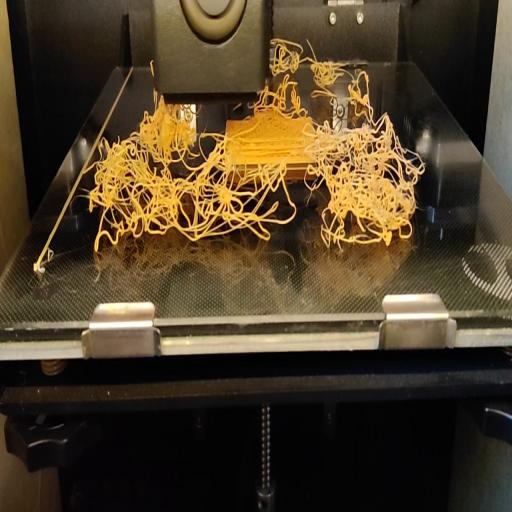spaghetti: (83, 96, 426, 252), (268, 28, 370, 104)
